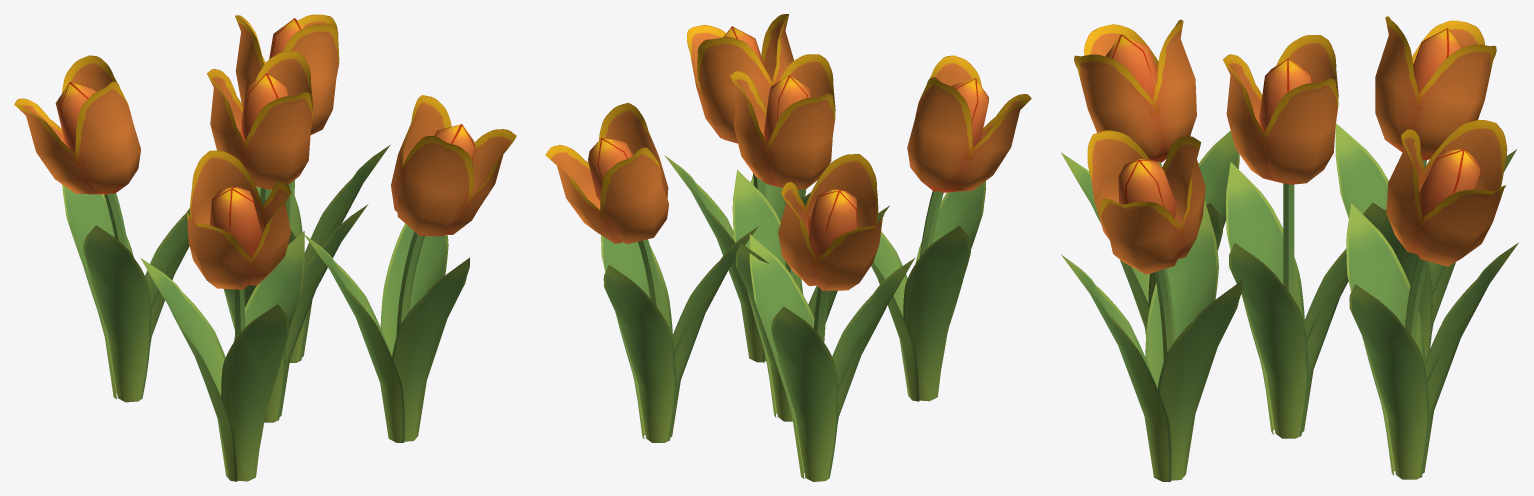
Rendered from 3D_Model_Tulips.fbx.
3 renders of one model, left to right at view 1: azimuth 30°, elevation 25°; view 2: azimuth 150°, elevation 25°; view 3: azimuth 270°, elevation 25°, orthographic. The views are drawn at different scales.
Parts seen in each view (by area): view 1: Sphere001; view 2: Sphere001; view 3: Sphere001.
Boxes of the visible parts, left/top/right/bottom form: Sphere001: left=14, top=14, right=516, bottom=481; Sphere001: left=545, top=14, right=1031, bottom=481; Sphere001: left=1061, top=16, right=1518, bottom=481.
Size of the model in its own units: 112 by 107 by 119.
1 material, 1 textured.
